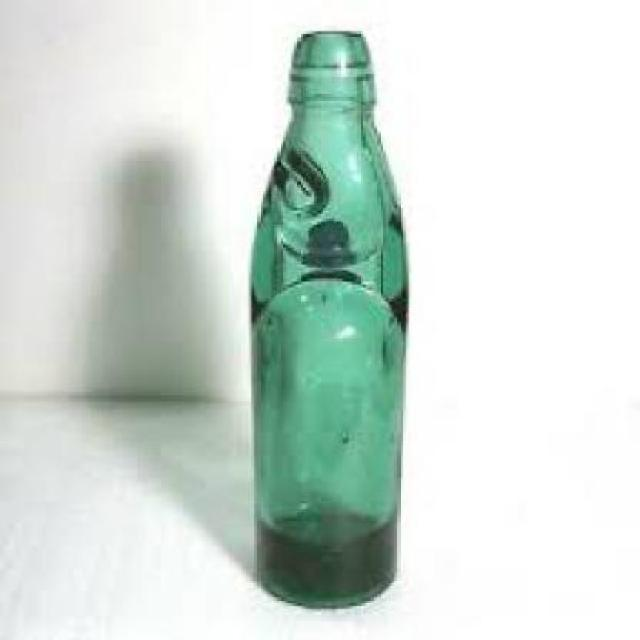kaca: (243, 31, 406, 606)
